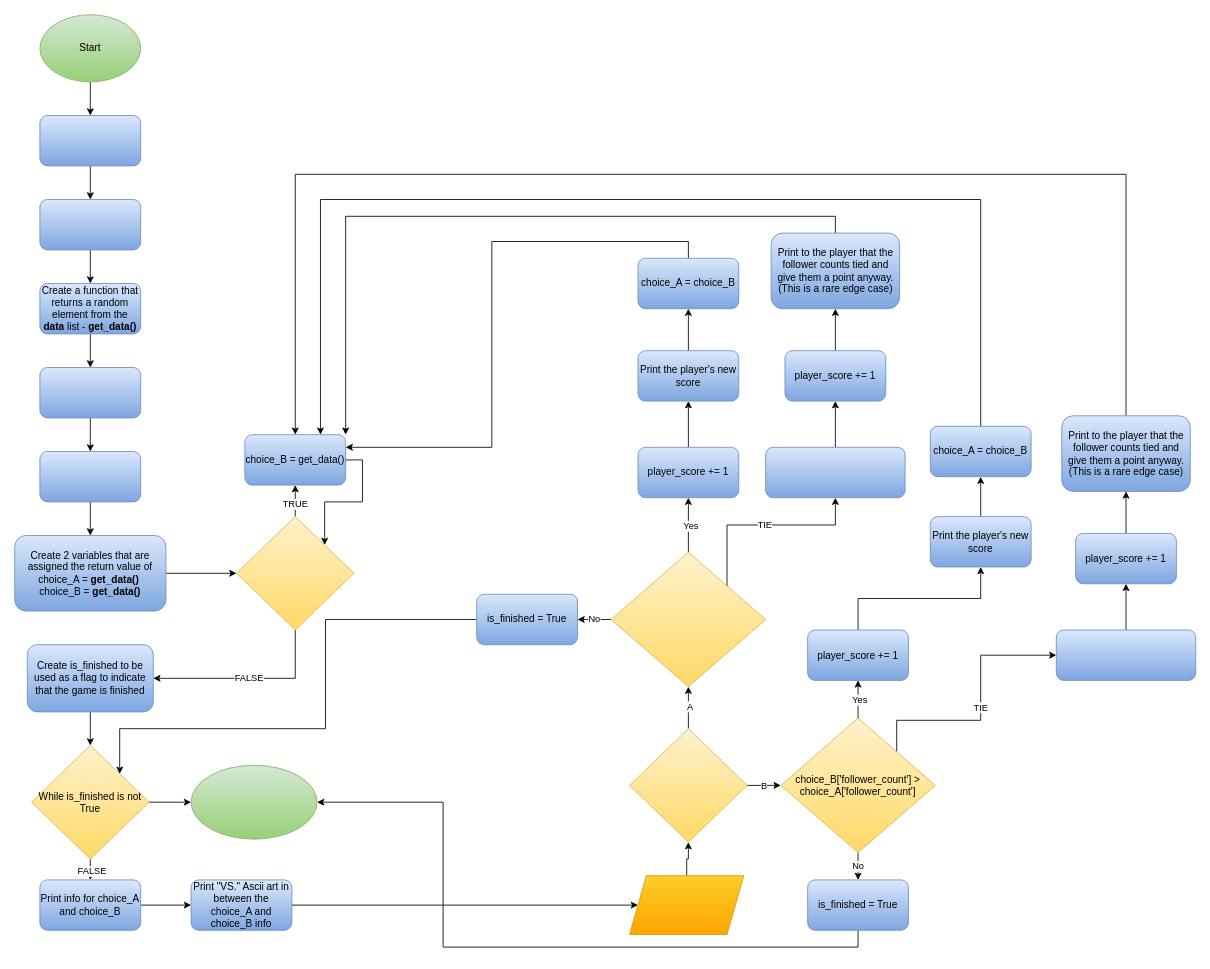
Image size: 1210x969. Some labels were removed from this diagram. The shapes that lost their labels are listed below. From the top down, each one's centre as x and y in pixels, then its label:
the point at 90,140: Import necessary libraries: art.py, game_data.py, random, clear
the point at 90,224: Print Ascii art from art.py
the point at 90,392: Create a function that encompasses the game - play_game()
the point at 90,476: In play_game(), create a variable to keep track of the player's score
the point at 835,472: choice_A['follower_count'] = choice_B['follower_count'] TIE
the point at 295,573: While choice_B == choice_A
the point at 688,619: choice_A['follower_count'] > choice_B['follower_count']
the point at 1125,654: choice_B['follower_count'] = choice_A['follower_count'] TIE
the point at 253,801: Print player's final score and display which choice had more followers
the point at 688,785: player_choice == 'a'? player_choice == 'b'?
the point at 686,904: Ask user to choose between A or B
